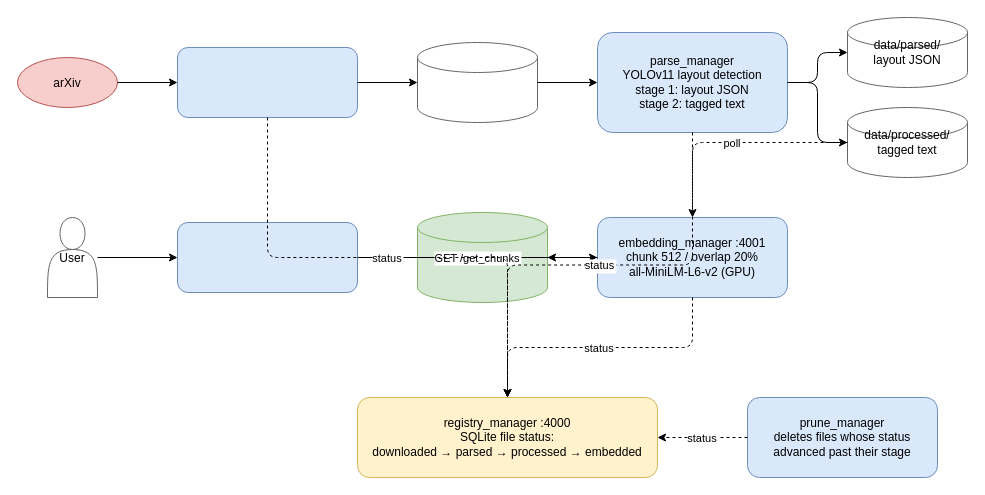
Image size: 985x495. Some labels were removed from this diagram. The box of each missing label's shape, as (x1, y1, x2, y2) in pixels:
data/raw_pdfs/: (416, 42, 538, 122)
download_manager arXiv search + download per domain, checkpointed: (176, 46, 358, 118)
rag_setup retrieve chunks + Gemini answer: (176, 222, 358, 292)
vector_db/ ChromaDB (cosine, HNSW): (416, 212, 548, 302)
